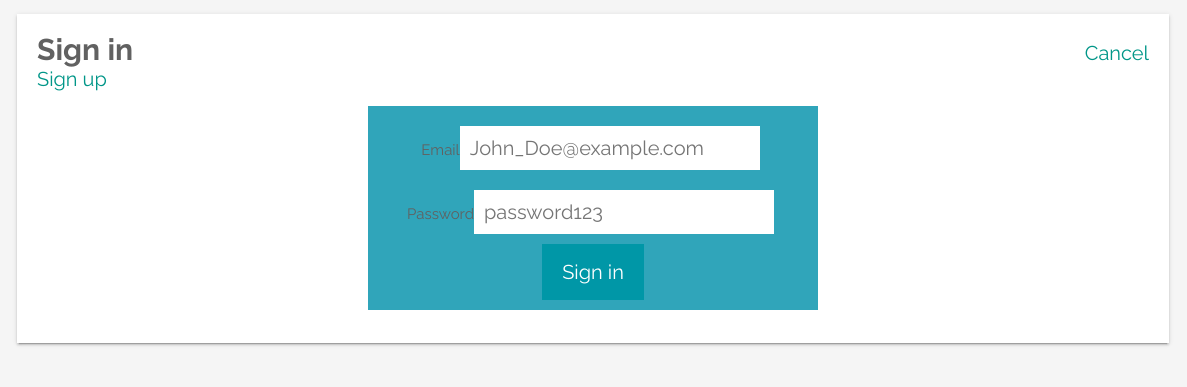
AuthForm Component › Error handling › onSubmit catch block › should handle error with message property
The width and height of the screenshot is (1187, 387).
Step 1. Type "test@example.com" into the field labelled "Email" → (610, 148), box 460,126 -> 760,170
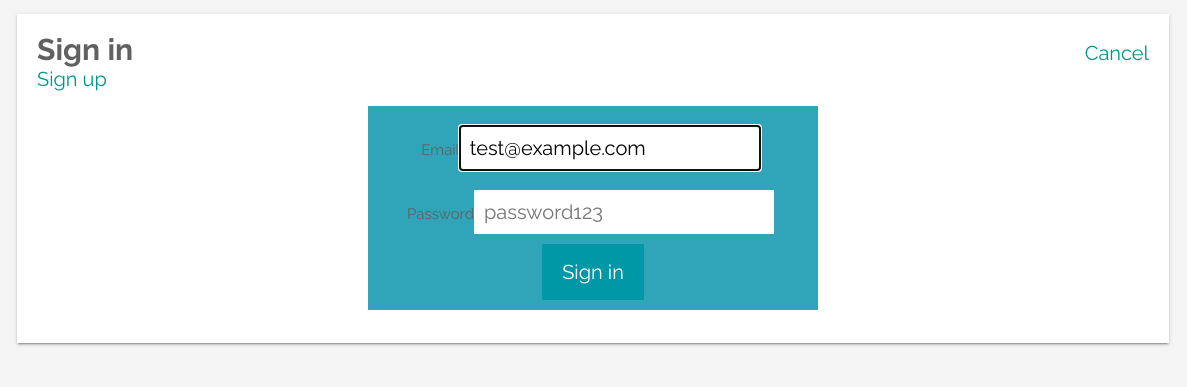
Step 2. Type "password123" into the password field labelled "Password" → (624, 212), box 474,190 -> 774,234
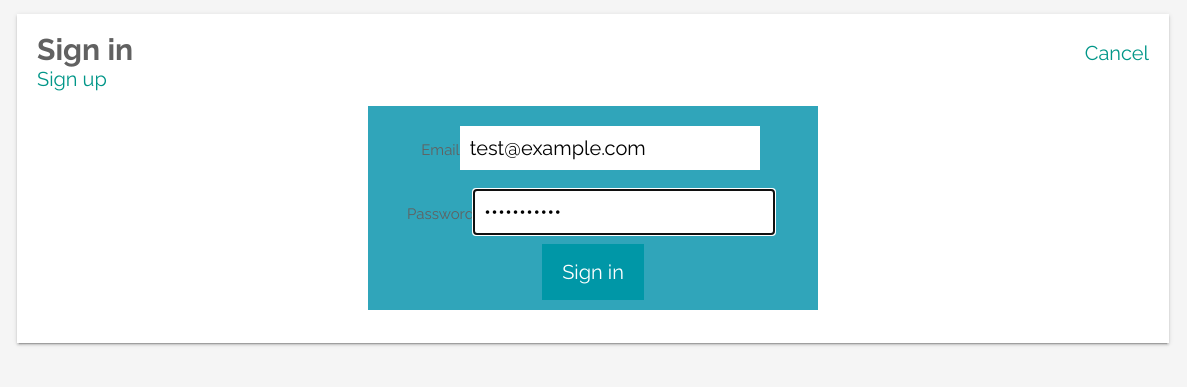
Step 3. Click the button "Sign in" → (593, 272), box 542,244 -> 644,300
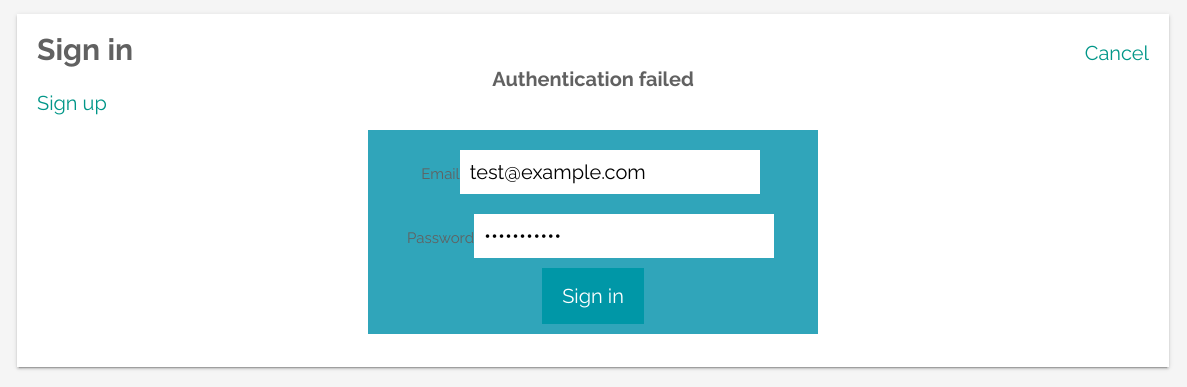
Expected: the heading "Authentication failed" is shown, 492,67 -> 694,91
